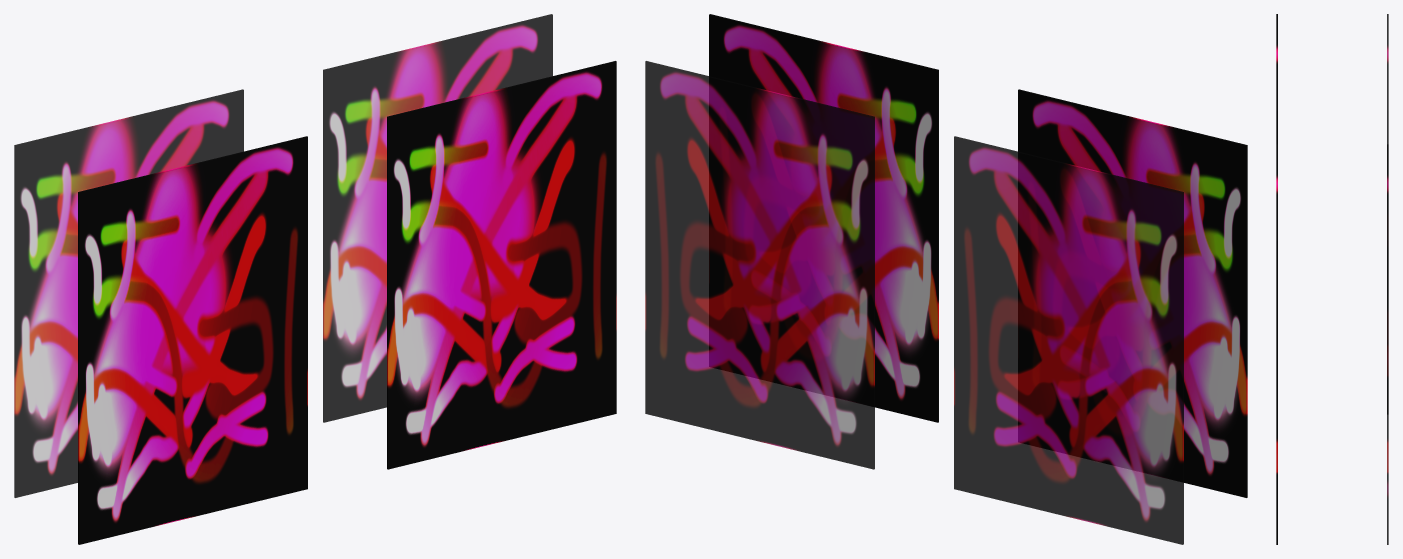
The picture shows the model from 3 angles, left to right: view 1: azimuth 30°, elevation 25°; view 2: azimuth 150°, elevation 25°; view 3: azimuth 270°, elevation 25°; orthographic projection. The views are drawn at different scales.
Parts seen in each view (by area): view 1: Plane.003, Plane, Plane.001, Plane.002; view 2: Plane.002, Plane.001, Plane, Plane.003; view 3: Plane, Plane.001, Plane.002, Plane.003.
Part boxes in pixels (x1,y1,x2,y2): Plane.003: [78, 136, 307, 544]; Plane: [387, 61, 616, 469]; Plane.001: [323, 14, 552, 422]; Plane.002: [14, 89, 243, 497]; Plane.002: [954, 136, 1183, 544]; Plane.001: [645, 61, 874, 469]; Plane: [709, 14, 938, 422]; Plane.003: [1018, 89, 1247, 497]; Plane: [1276, 144, 1277, 544]; Plane.001: [1387, 144, 1388, 544]; Plane.002: [1387, 14, 1388, 144]; Plane.003: [1276, 14, 1277, 144].
Size of the model in its own units: 2.57 by 1.61 by 0.538.
Materials: 4 (4 with a texture image).
